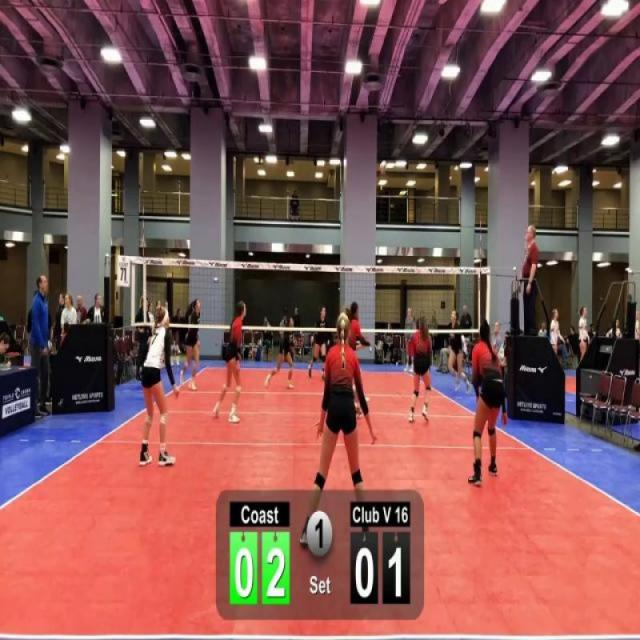volleyball: (379, 159, 388, 176)
